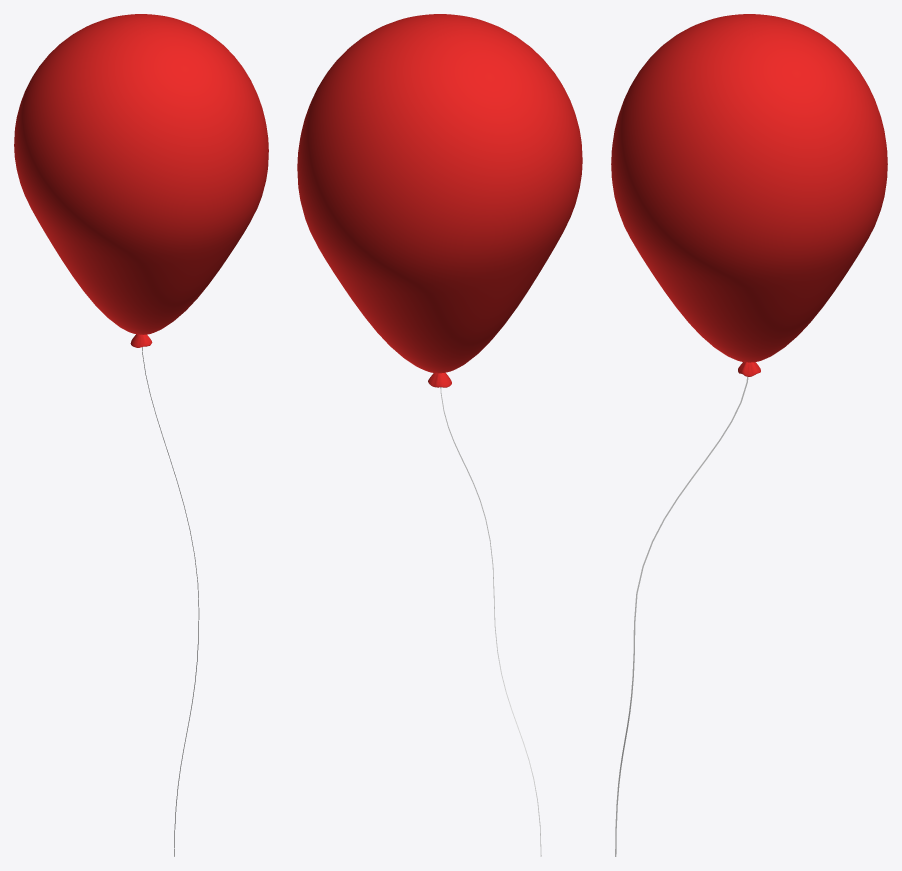
File: BalloonMitSchnur.fbx
The picture shows the model from 3 angles, left to right: view 1: azimuth 30°, elevation 25°; view 2: azimuth 150°, elevation 25°; view 3: azimuth 270°, elevation 25°; orthographic projection. The views are drawn at different scales.
Parts seen in each view (by area): view 1: Sphere, BezierCurve; view 2: Sphere, BezierCurve; view 3: Sphere, BezierCurve.
Boxes of the visible parts, bbox=[...] form: Sphere: bbox=[14, 14, 268, 334]; BezierCurve: bbox=[142, 347, 199, 856]; Sphere: bbox=[297, 14, 582, 373]; BezierCurve: bbox=[440, 387, 541, 856]; Sphere: bbox=[611, 14, 887, 362]; BezierCurve: bbox=[615, 376, 748, 856].
Bounding box in the file's own units: 197 × 666 × 197.
